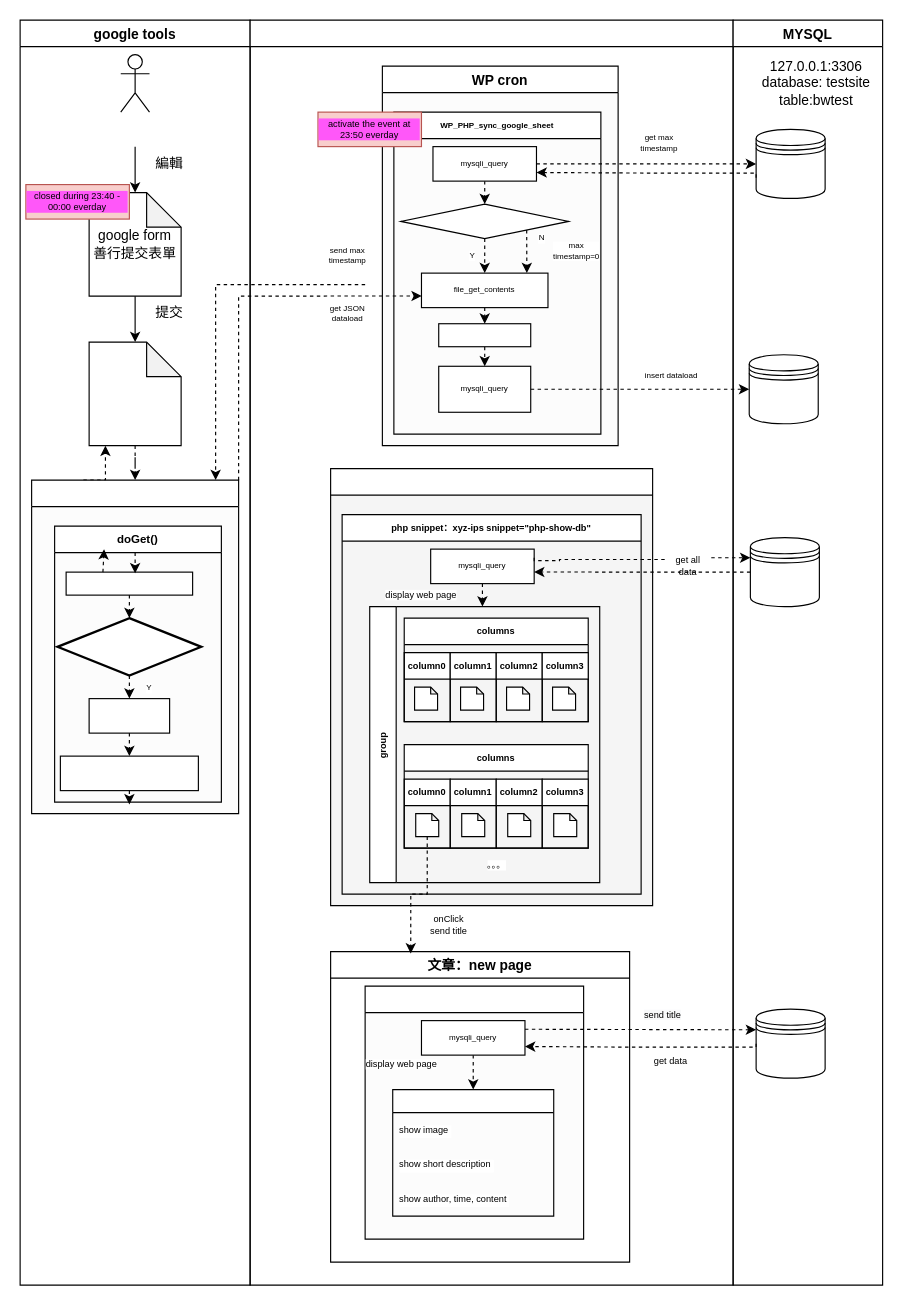
The diagram is 903 pixels wide and 1305 high, and some of its shapes have lost their labels. Here are the shapes that lost their labels. From the top down, the box of each, then its label:
(120, 53, 150, 112): user
(400, 203, 569, 239): if max timestamp != NULL
(438, 323, 531, 347): json_decode
(88, 341, 181, 446): google sheet 表單回覆
(65, 571, 193, 595): getSheetValue
(56, 616, 202, 676): if timestamp > max timestamp
(30, 479, 239, 814): google apps script
(249, 19, 733, 1285): Wordpress
(329, 467, 653, 906): 文章：善行點滴
(88, 697, 170, 733): data . push
(59, 755, 198, 791): ContentService . createTextOutput
(364, 985, 584, 1239): php snippet：[xyz-ips snippet="new-page"]
(392, 1088, 554, 1216): body
